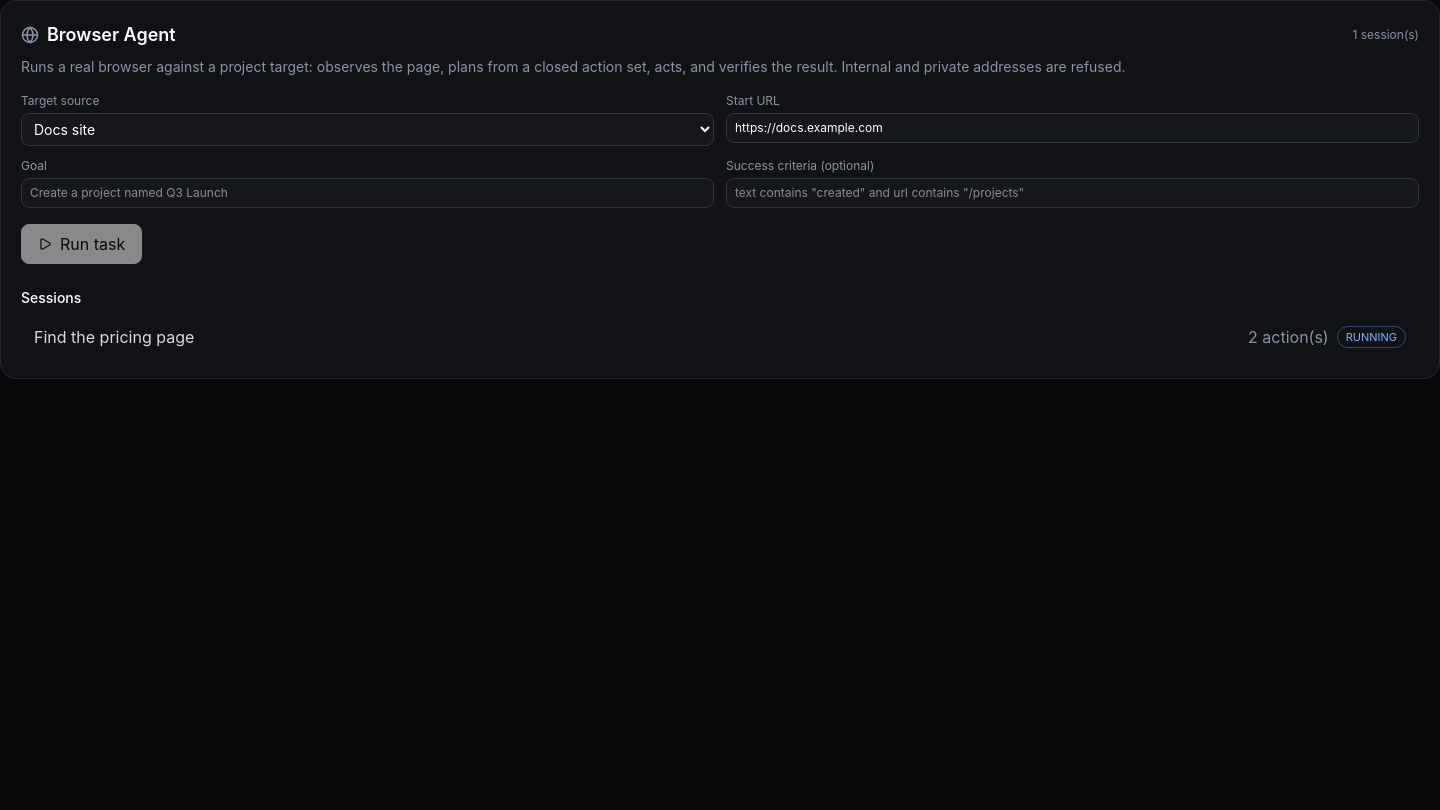
Test: BrowserPanel › loads the trace and parsed observations for a selected session
Click the text "Find the pricing page": (114, 337) [34,325,194,349]
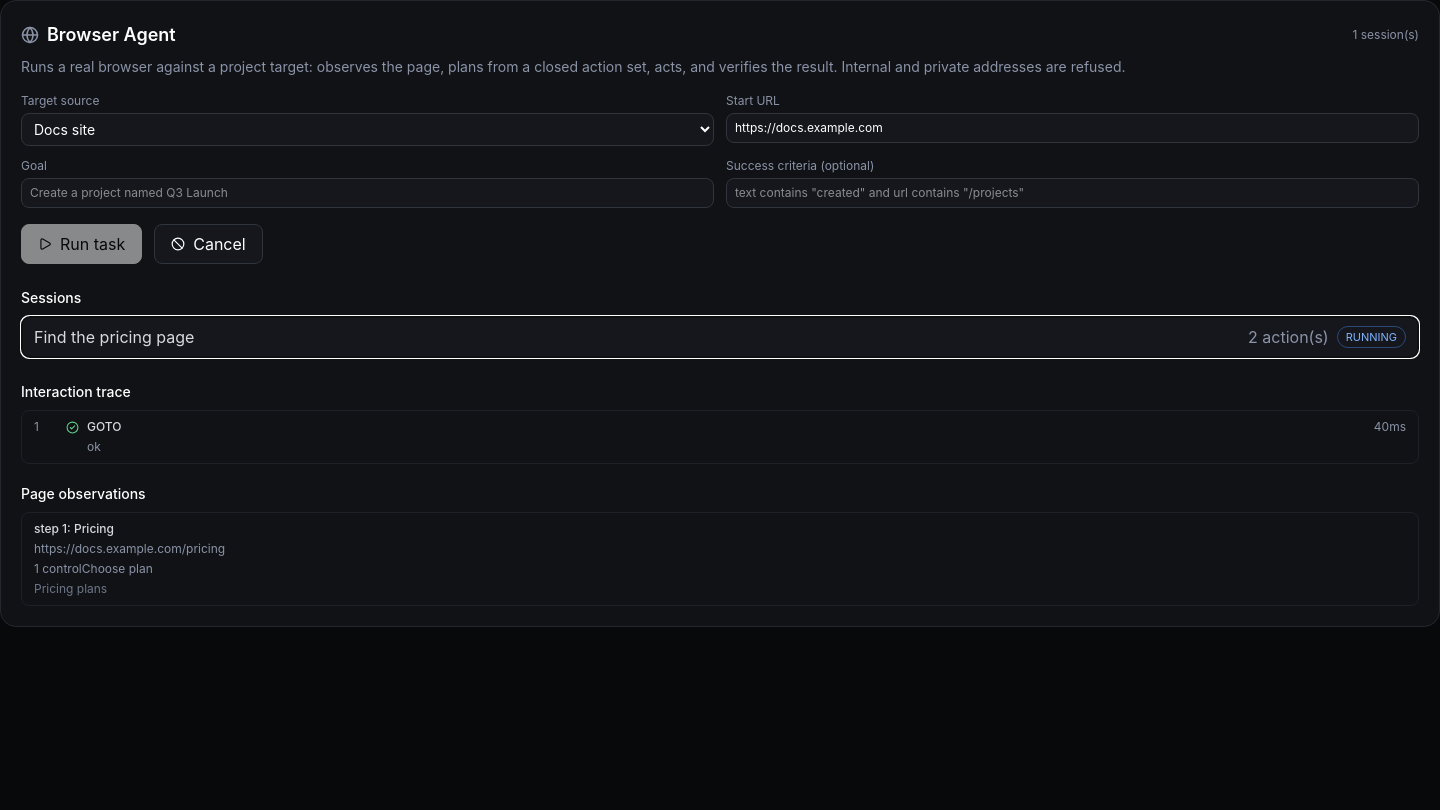
Check: the heading "Page observations" is shown, box [21,485,146,502]
Check: the text "step 1: Pricing" is shown, box [34,521,114,536]
Check: the text "1 control" is shown, box [34,561,153,576]
